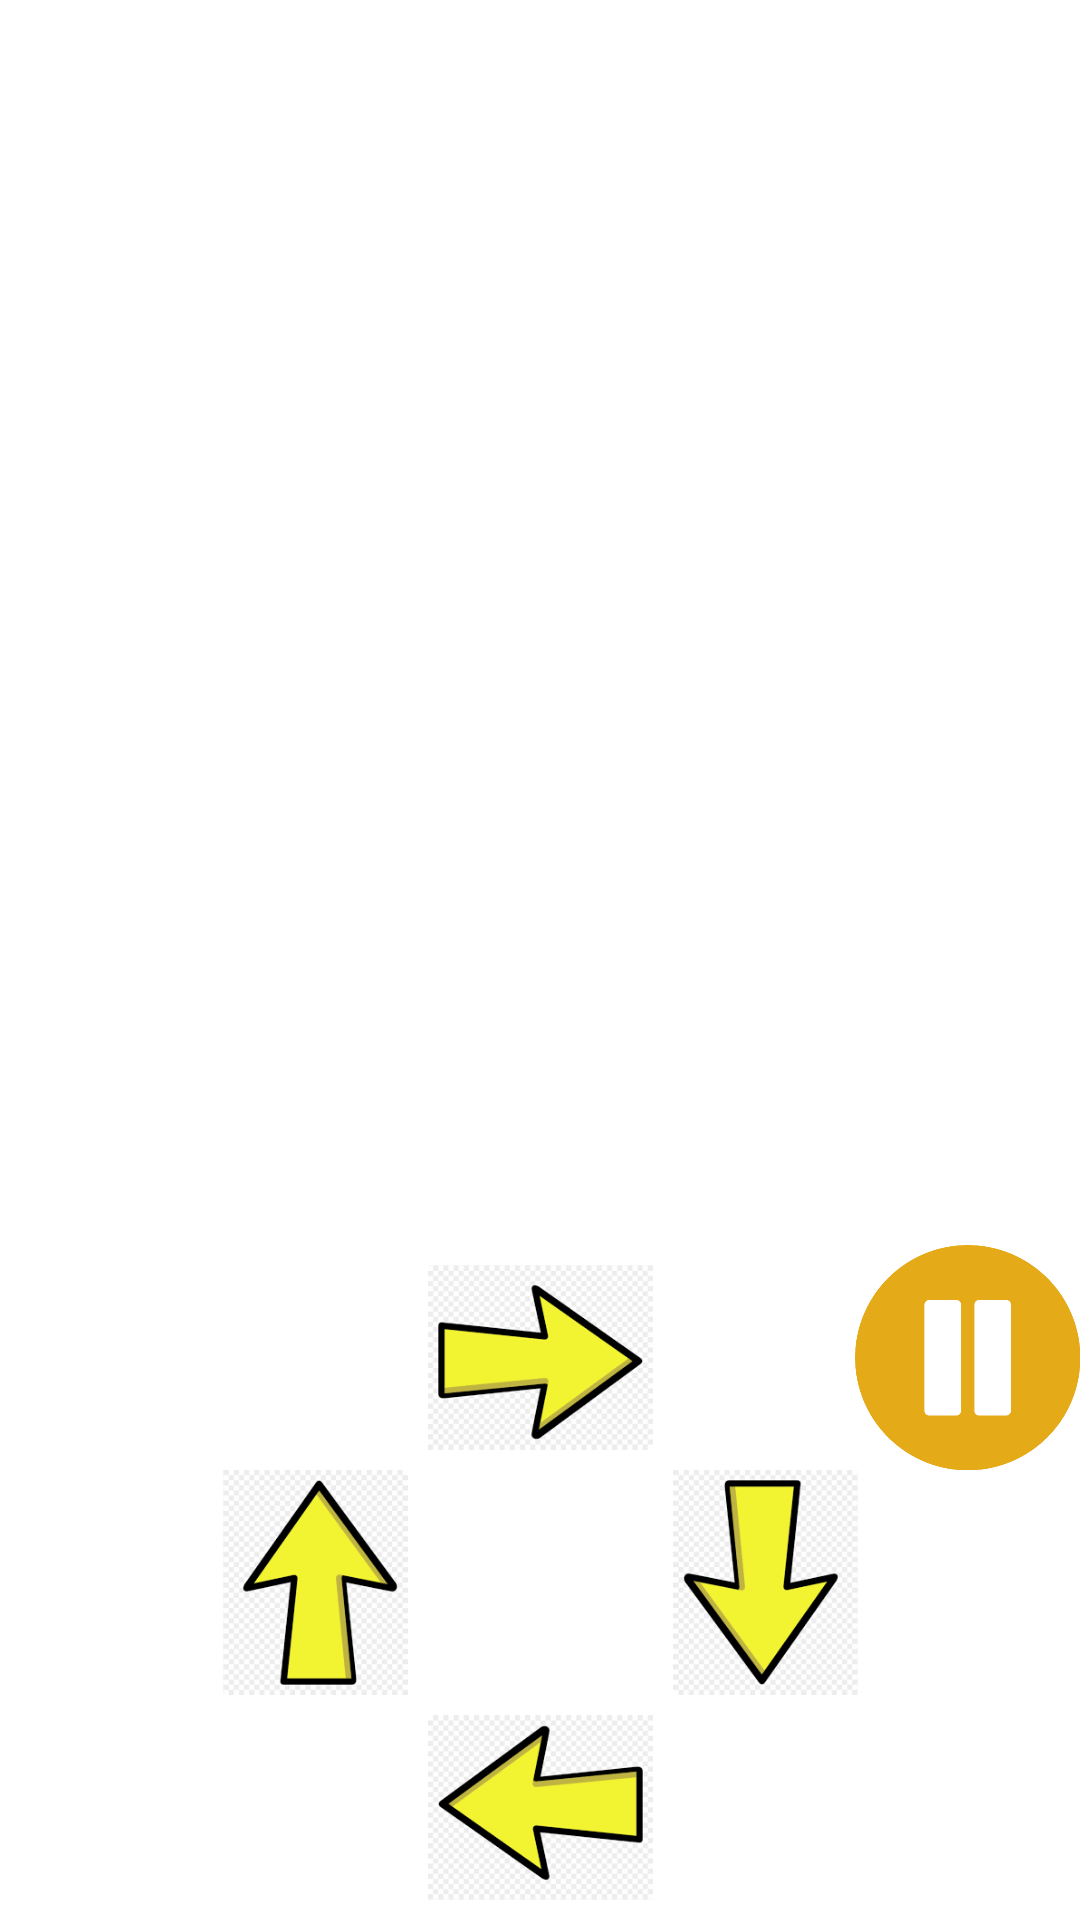

Icon click points for this 1080*1920 phone screenshot, format point (x, y):
pause: point (967, 1357)
